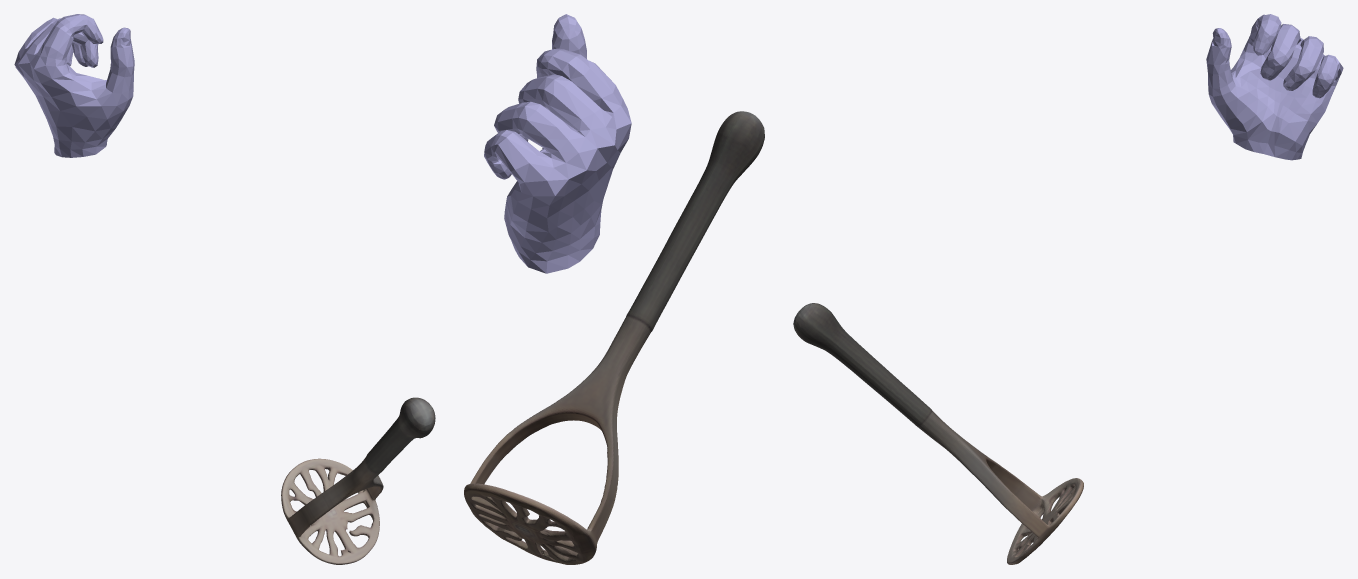
The model's file is frame_0093_source_000093_hand_object.glb.
3 views of the same model, side by side, from view 1: azimuth 30°, elevation 25°; view 2: azimuth 150°, elevation 25°; view 3: azimuth 270°, elevation 25° (orthographic). The views are drawn at different scales.
Visible parts, largest first — view 1: world; view 2: world; view 3: world.
Boxes of the visible parts, x1,y1,x2,y2 form: world: [14, 14, 435, 564]; world: [464, 14, 764, 564]; world: [793, 14, 1343, 564].
Size of the model in its own units: 0.1965 by 0.3989 by 0.4177.
